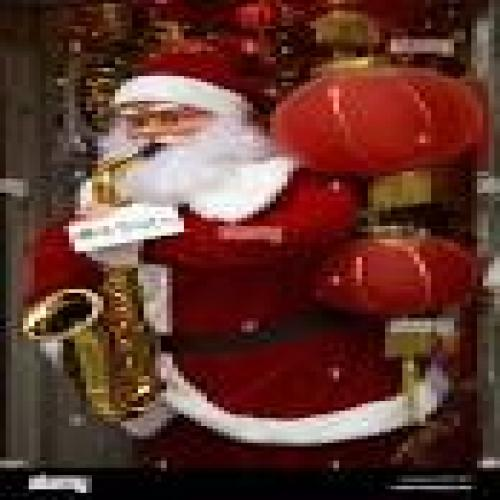Santa: (27, 36, 484, 469)
